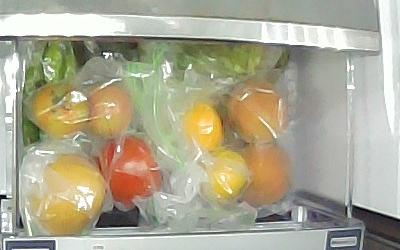peach_vinyl: (224, 77, 287, 144), (234, 142, 290, 204)
pear_vinyl: (25, 152, 105, 234)
tangerine_vinyl: (205, 147, 248, 201), (182, 101, 223, 152)
tomato_vinyl: (99, 134, 162, 201), (31, 81, 90, 135), (85, 85, 131, 135)
